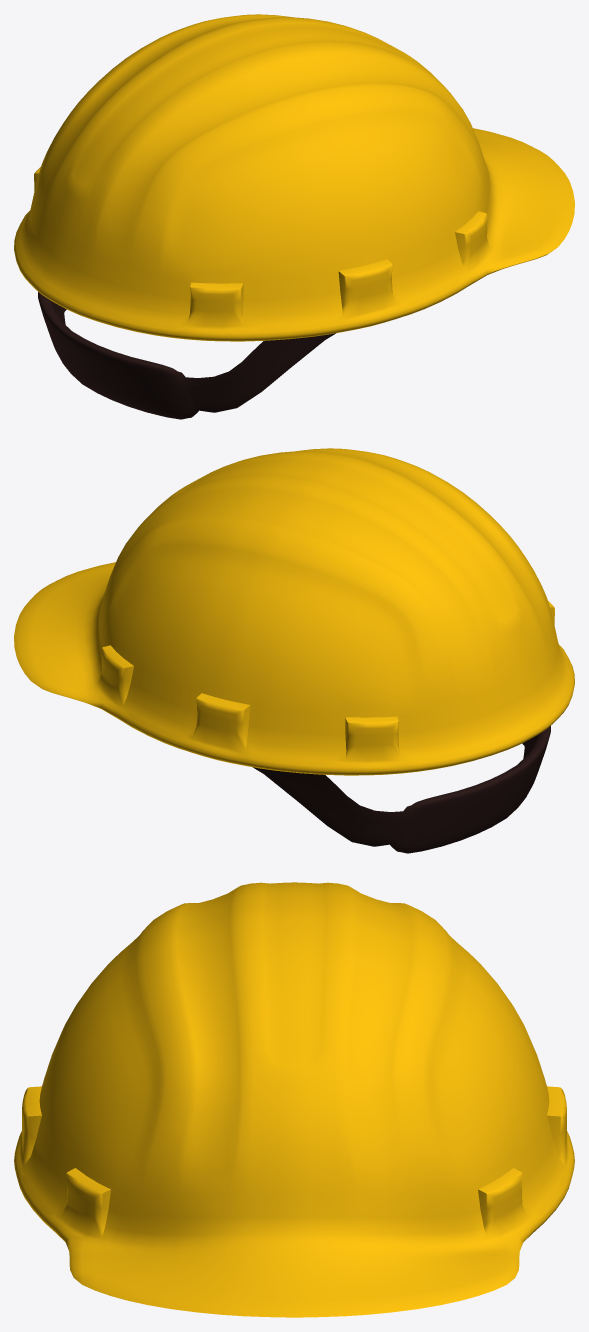
The model's file is safetyHelmet.fbx.
The picture shows the model from 3 angles, top to bottom: view 1: azimuth 30°, elevation 25°; view 2: azimuth 150°, elevation 25°; view 3: azimuth 270°, elevation 25°; orthographic projection. The views are drawn at different scales.
Parts seen in each view (by area): view 1: safetyHelmet; view 2: safetyHelmet; view 3: safetyHelmet.
Part boxes in pixels (x1,y1,x2,y2): safetyHelmet: [14, 14, 574, 419]; safetyHelmet: [14, 448, 574, 853]; safetyHelmet: [14, 882, 574, 1317].
Bounding box in the file's own units: 350 × 201 × 272.
